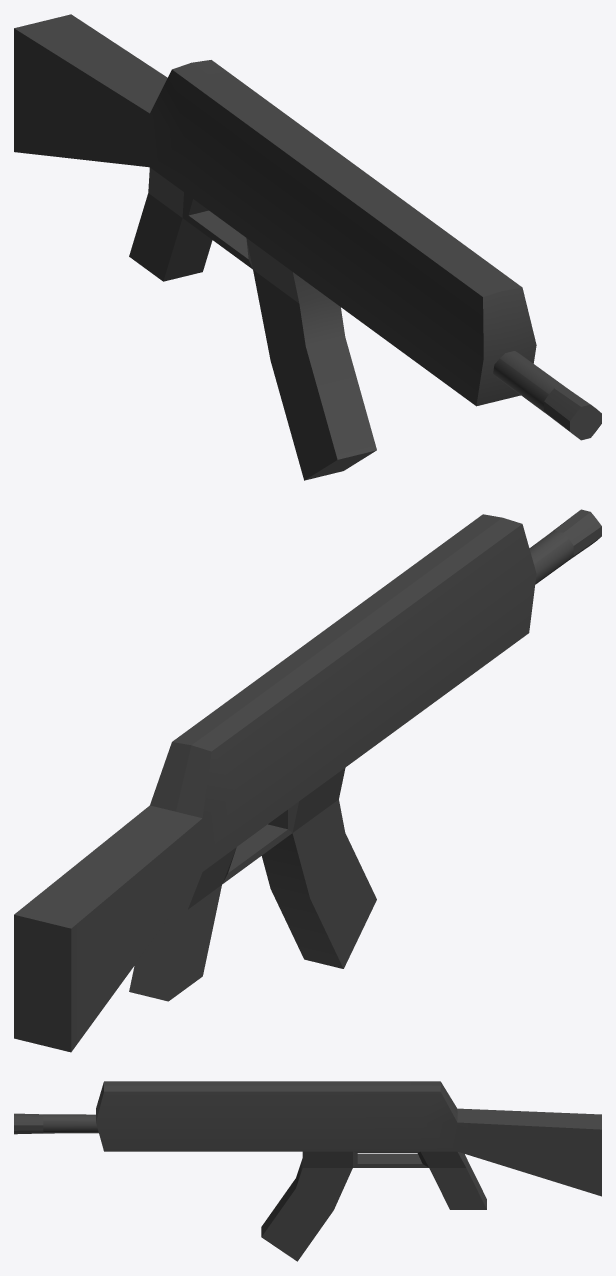
The model's file is AssaultRifle.fbx.
The picture shows the model from 3 angles, top to bottom: view 1: azimuth 30°, elevation 25°; view 2: azimuth 150°, elevation 25°; view 3: azimuth 270°, elevation 25°; orthographic projection. The views are drawn at different scales.
Visible parts, largest first — view 1: Assault_rifle; view 2: Assault_rifle; view 3: Assault_rifle.
Boxes of the visible parts, x1,y1,x2,y2 form: Assault_rifle: [14, 14, 601, 480]; Assault_rifle: [14, 509, 601, 1052]; Assault_rifle: [14, 1081, 601, 1261].
Bounding box in the file's own units: 19.86 × 105 × 327.
1 material, 1 textured.
